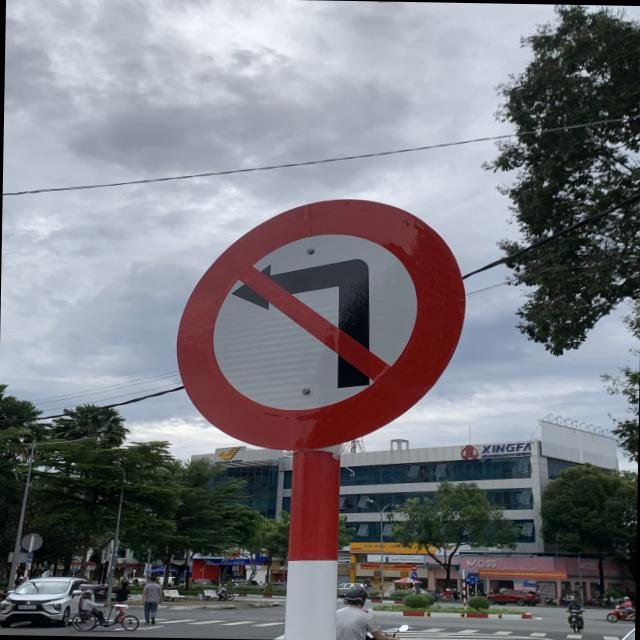Cam_Re_Trai: (175, 194, 468, 456)
